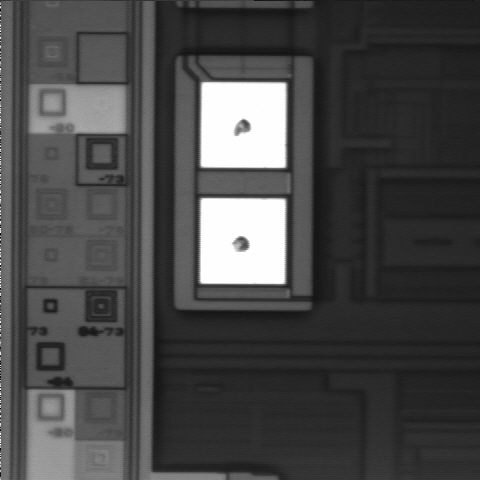pad: (201, 82, 286, 168), (200, 198, 285, 284)
